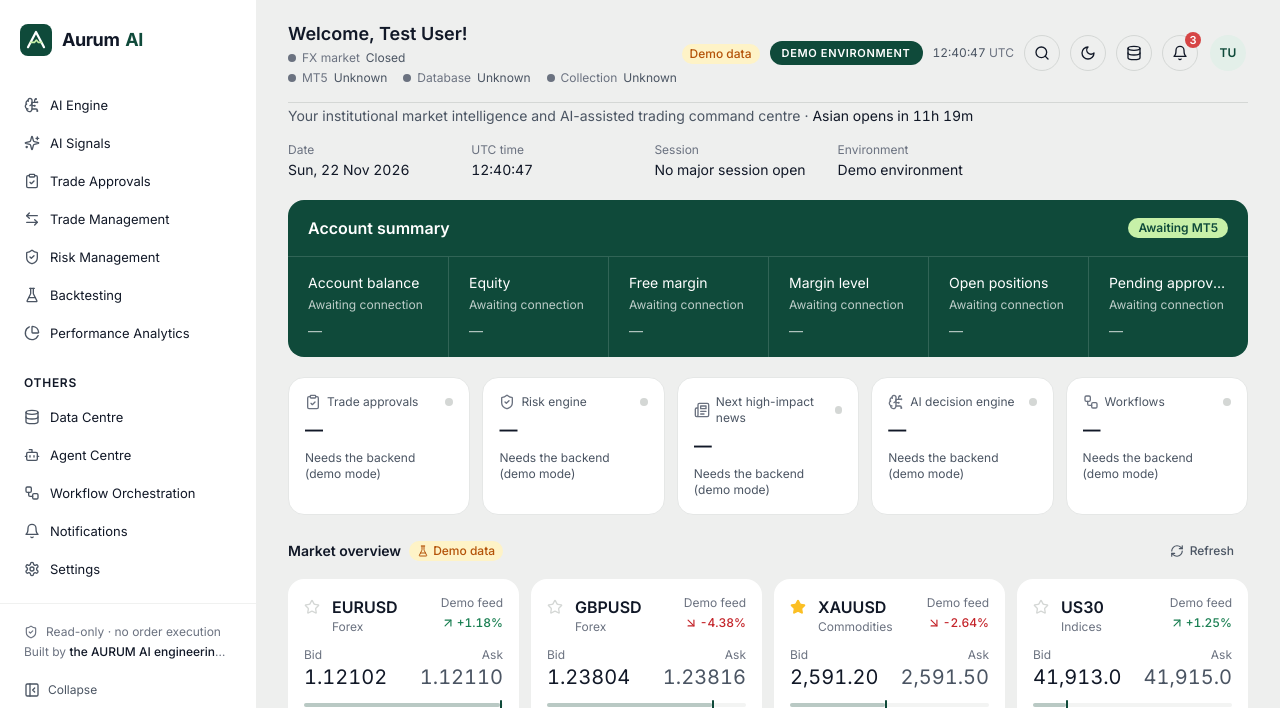
it: application shell › navigates between pages from the sidebar
The width and height of the screenshot is (1280, 708).
(page scrolled)
Click the link "Data Centre".
click(74, 417)  # box [24, 409, 123, 425]
(page scrolled)
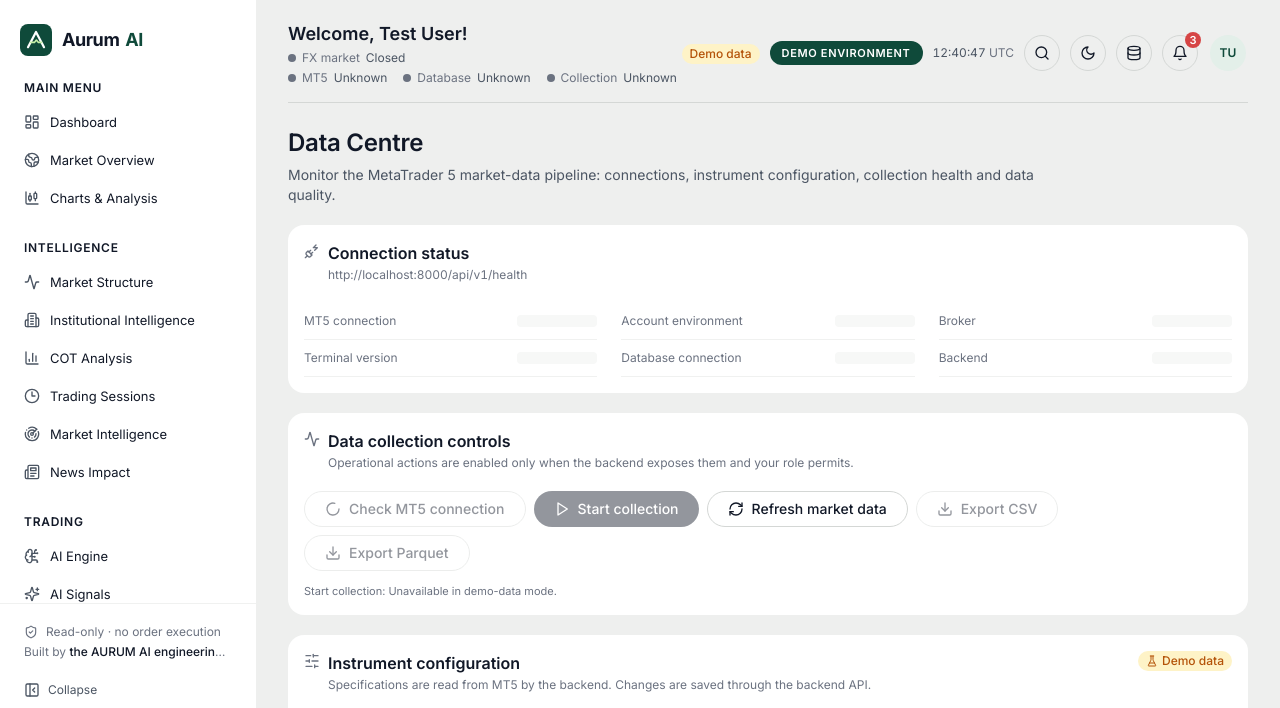
Expected: the heading "Data Centre" is shown, [288, 128, 423, 157]
Click the link "Market Overview".
click(89, 160)  # box [24, 152, 155, 168]
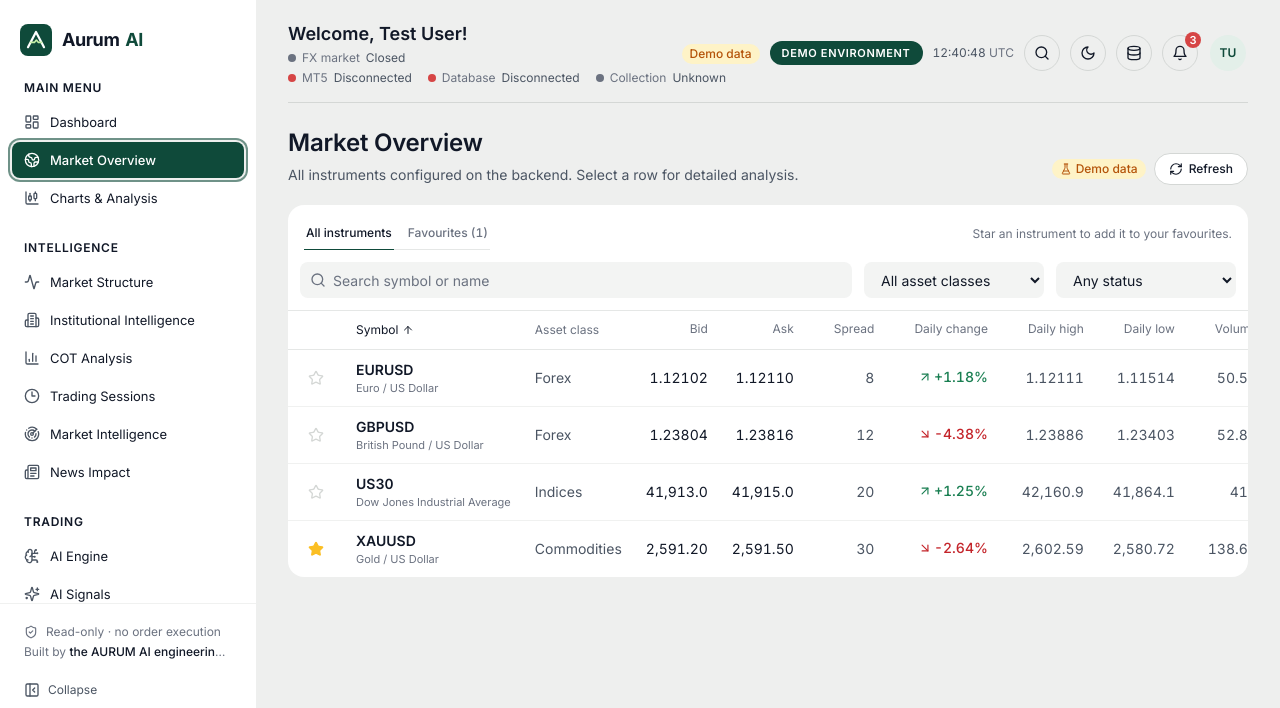
Expected: the heading "Market Overview" is shown, [288, 128, 483, 157]
